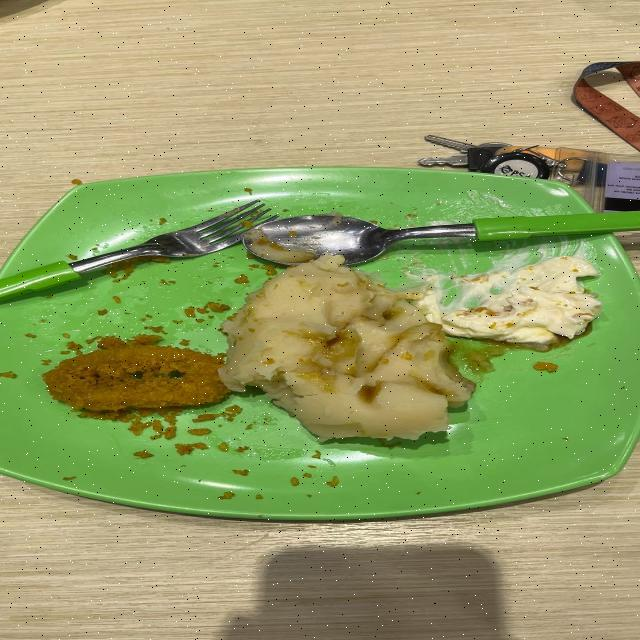Potato: (219, 256, 473, 440)
